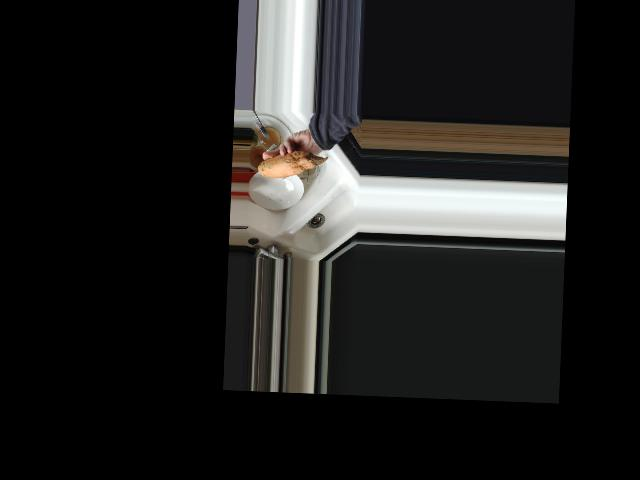sweet_potato: (257, 149, 328, 182)
